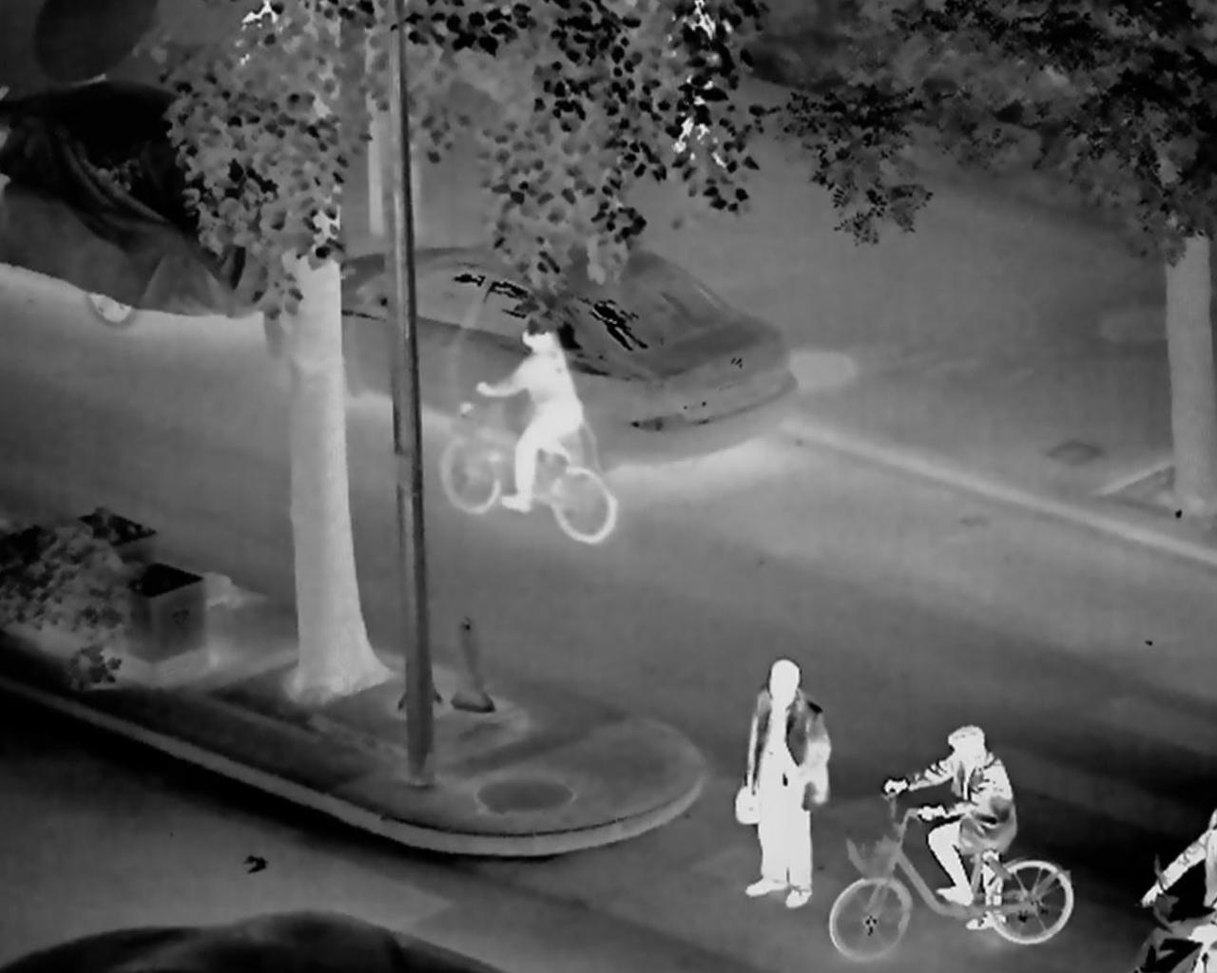person: (879, 722, 1019, 933), (731, 658, 833, 911), (475, 320, 585, 516), (1137, 800, 1217, 955)
